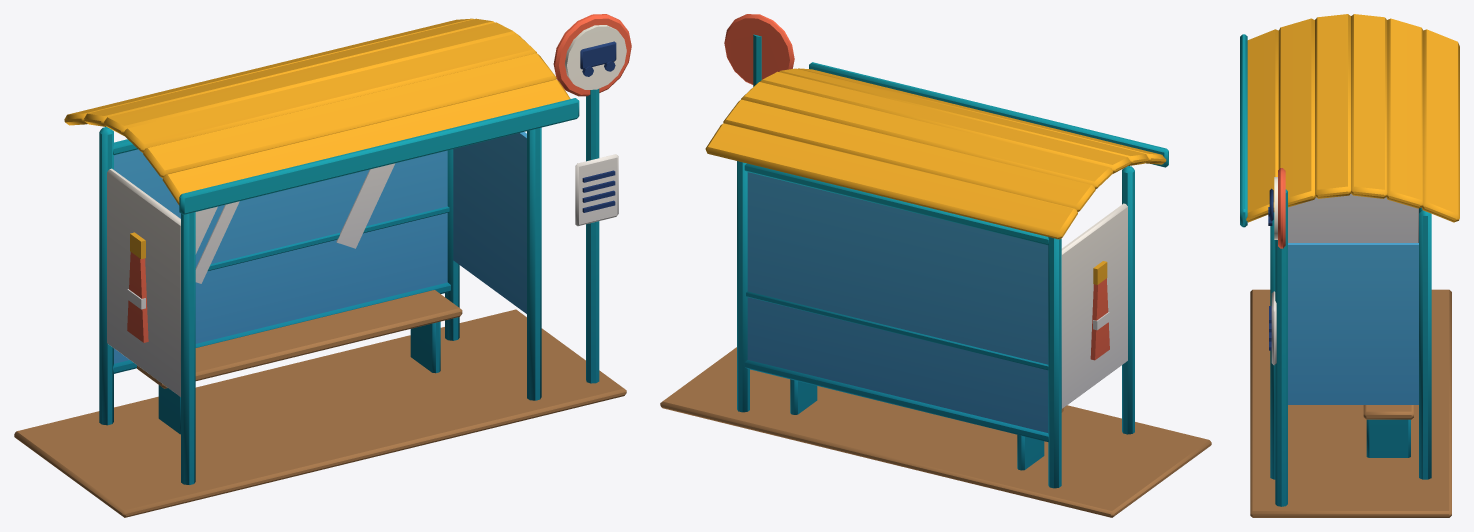
The model's file is bus_stop.glb.
The picture shows the model from 3 angles, left to right: view 1: azimuth 30°, elevation 25°; view 2: azimuth 150°, elevation 25°; view 3: azimuth 270°, elevation 25°; orthographic projection. The views are drawn at different scales.
Parts seen in each view (by area): view 1: bus_stop; view 2: bus_stop; view 3: bus_stop.
Part boxes in pixels (x1=…): bus_stop: x1=14, y1=14, x2=631, y2=517; bus_stop: x1=660, y1=14, x2=1211, y2=517; bus_stop: x1=1240, y1=14, x2=1459, y2=517.
Bounding box in the file's own units: 4.37 × 2.97 × 1.74.
